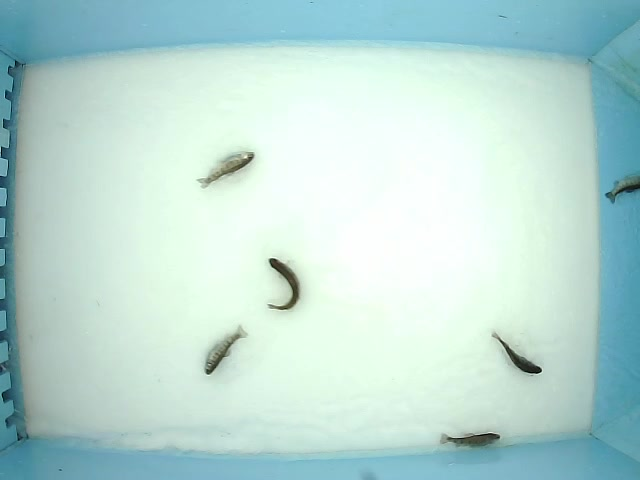fish: (203, 323, 250, 376), (490, 329, 543, 376), (196, 150, 255, 190), (265, 257, 302, 312), (436, 428, 502, 451)
